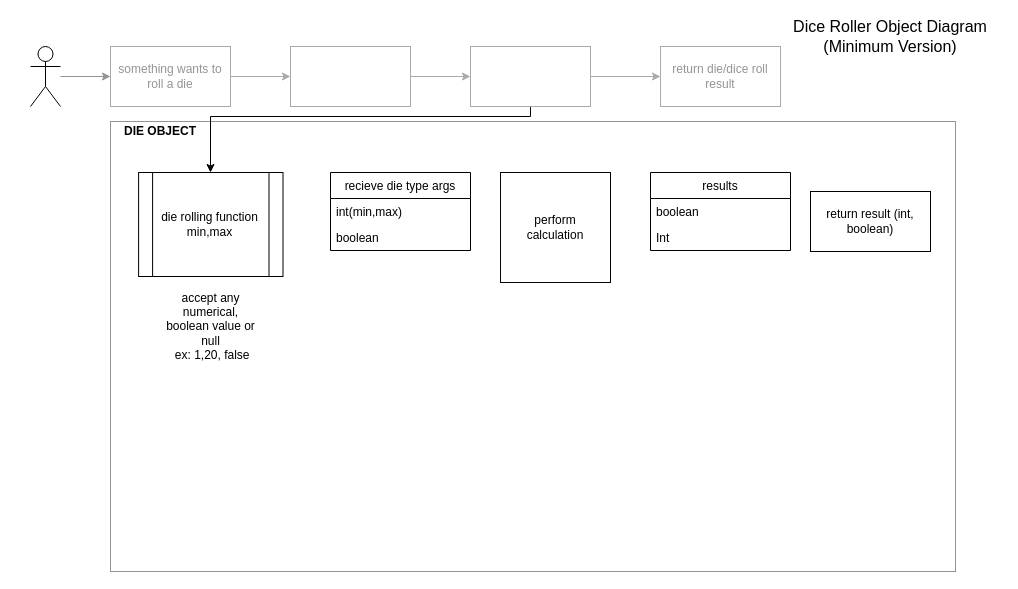
Image size: 1018x589. Some labels were removed from this diagram. Each missing label, with the centre of its shape:
"choose die/dice" belongs at pixel 350 76.
"roll chosen dice combination" belongs at pixel 530 76.
"Something" belongs at pixel 45 76.
